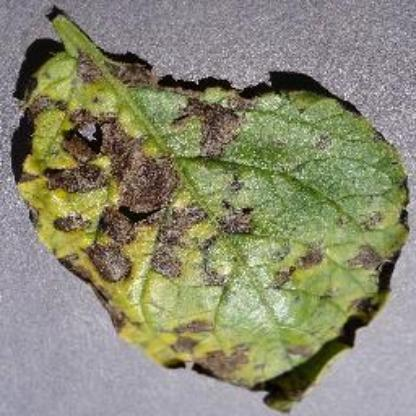Early-Blight: (17, 9, 410, 410)
